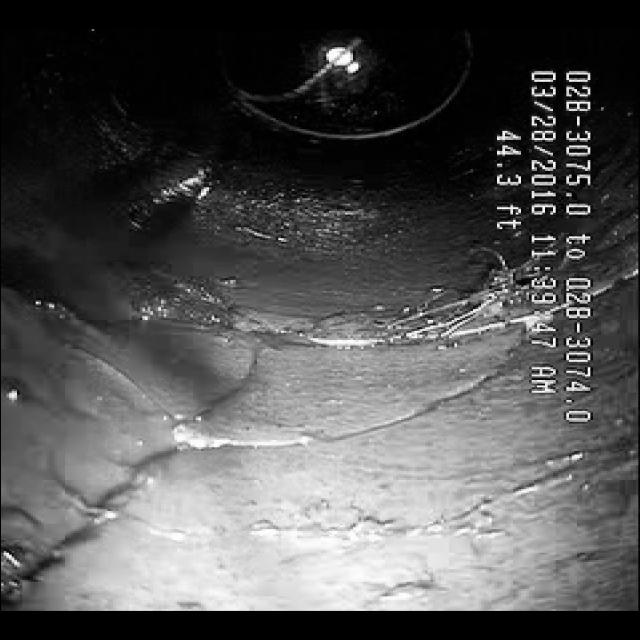Fracture: (28, 308, 343, 585)
